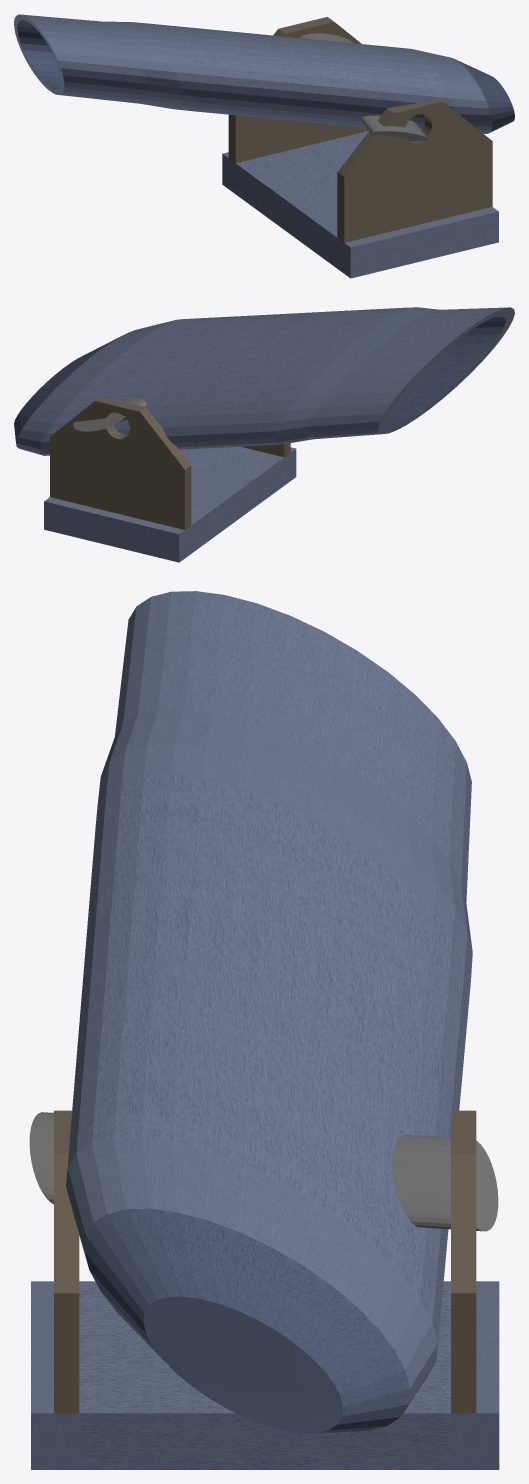
The model's file is cannon.fbx.
3 renders of one model, top to bottom at view 1: azimuth 30°, elevation 25°; view 2: azimuth 150°, elevation 25°; view 3: azimuth 270°, elevation 25°, orthographic. The views are drawn at different scales.
Visible parts, largest first — view 1: Cylinder.001, Cube; view 2: Cylinder.001, Cube; view 3: Cylinder.001, Cube.
Part boxes in pixels (left/top/right/bottom): Cylinder.001: left=14, top=14, right=514, bottom=141; Cube: left=222, top=17, right=498, bottom=278; Cylinder.001: left=14, top=307, right=514, bottom=455; Cube: left=44, top=396, right=296, bottom=562; Cylinder.001: left=29, top=591, right=498, bottom=1433; Cube: left=31, top=1110, right=499, bottom=1469.
Size of the model in its own units: 666 by 361 by 301.
Materials: 3 (1 with a texture image).
